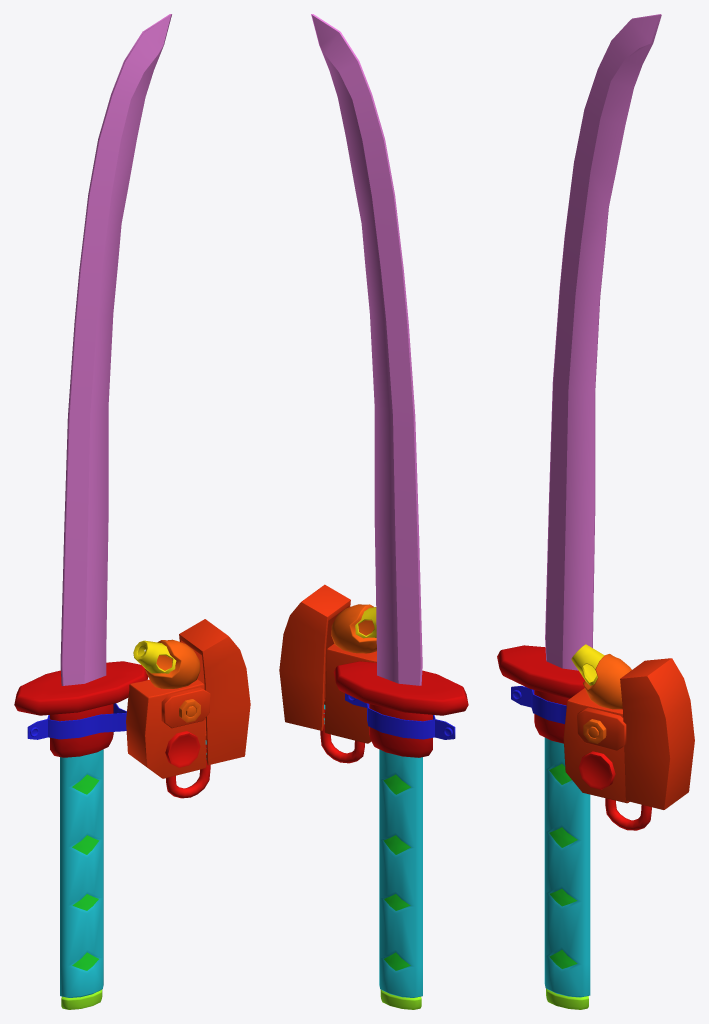
The model's file is MoralesHelena_FMA_E2_Texturas.fbx.
3 views of the same model, side by side, from view 1: azimuth 30°, elevation 25°; view 2: azimuth 150°, elevation 25°; view 3: azimuth 330°, elevation 25° (orthographic). The views are drawn at different scales.
Visible parts, largest first — view 1: Espada; view 2: Espada; view 3: Espada.
Boxes of the visible parts, x1,y1,x2,y2 form: Espada: (14,14,250,1009); Espada: (279,14,468,1009); Espada: (497,14,694,1009).
Size of the model in its own units: 21.94 by 101 by 11.37.
